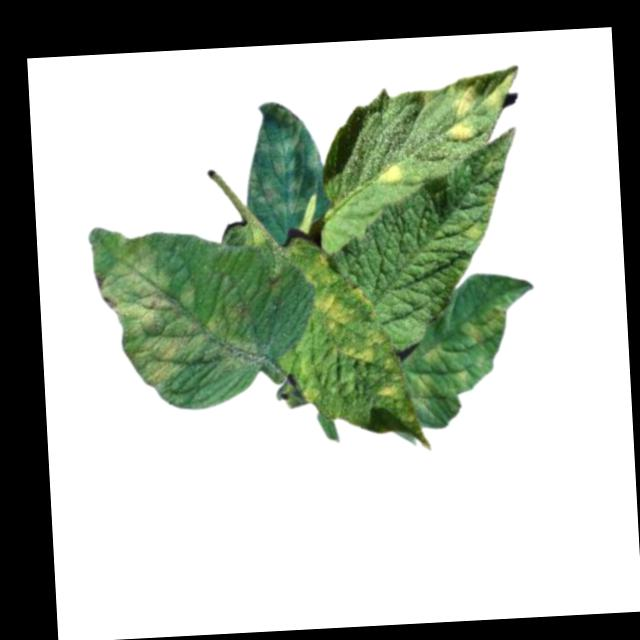Leaf_Mold: (96, 224, 260, 391), (406, 298, 516, 417), (237, 97, 331, 216), (440, 66, 520, 142), (312, 284, 375, 334), (334, 329, 389, 365), (372, 160, 405, 190), (456, 217, 485, 250), (372, 379, 403, 403)
